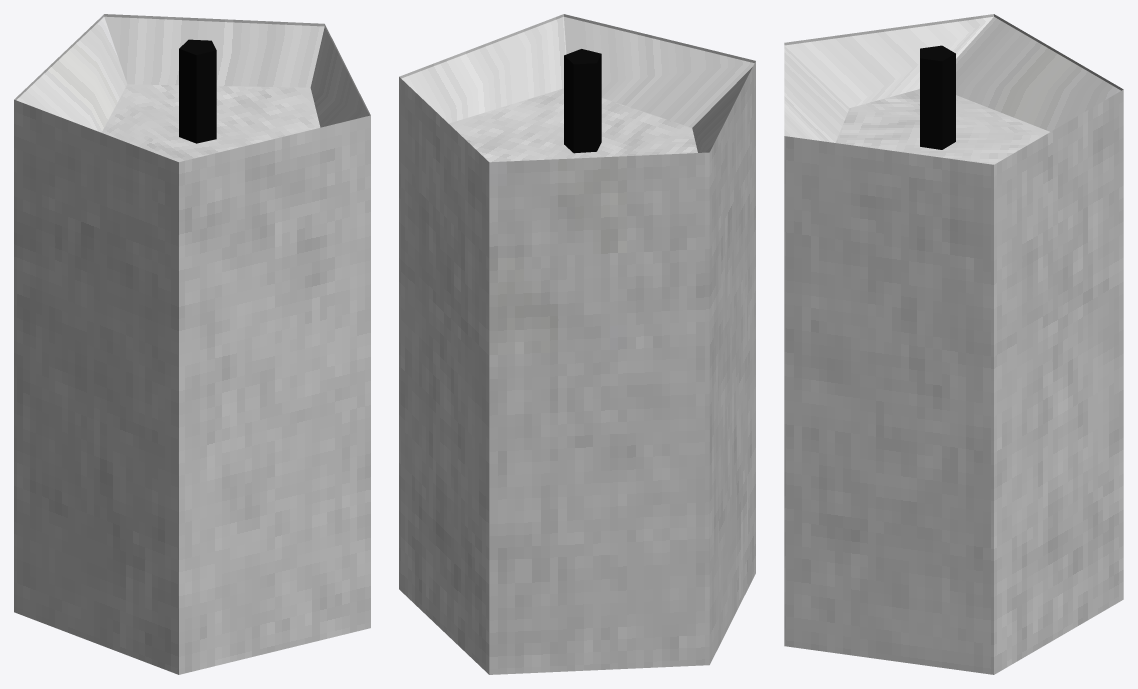
The model's file is Candle.glb.
3 views of the same model, side by side, from view 1: azimuth 30°, elevation 25°; view 2: azimuth 150°, elevation 25°; view 3: azimuth 270°, elevation 25° (orthographic).
Parts seen in each view (by area): view 1: Candle; view 2: Candle; view 3: Candle.
Part boxes in pixels (<box>): Candle: <box>14,14,370,674</box>; Candle: <box>399,14,755,674</box>; Candle: <box>784,14,1123,674</box>.
Bounding box in the file's own units: 0.3804 × 0.6423 × 0.3618.
Materials: 2 (1 with a texture image).
